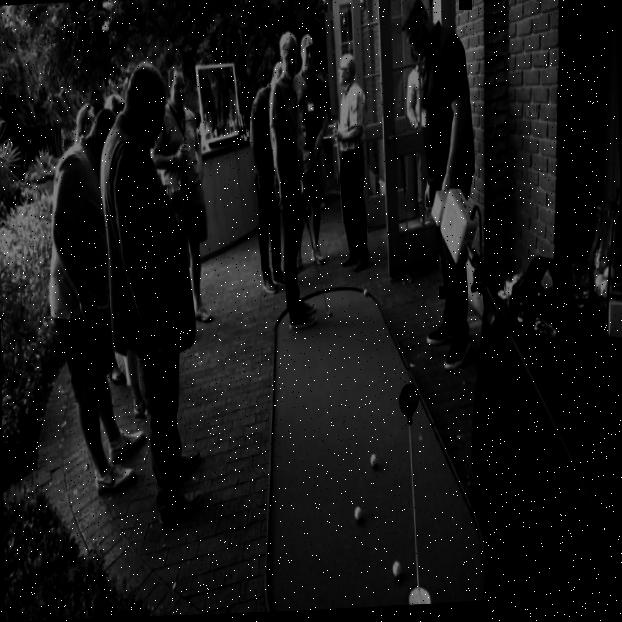GolfBall: (387, 557, 411, 583), (352, 503, 367, 531), (367, 450, 382, 476), (362, 285, 372, 307)
